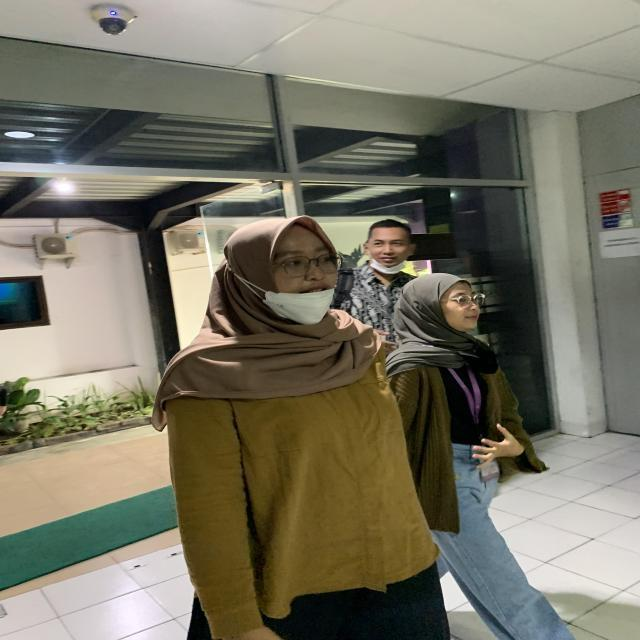hairnet: (212, 216, 352, 324), (367, 214, 408, 277)
